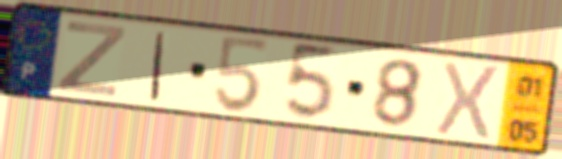5: (280, 39, 345, 126), (211, 34, 273, 117)
8: (369, 56, 427, 130)
I: (146, 28, 170, 104)
X: (432, 58, 504, 144)
Z: (53, 19, 130, 100)
